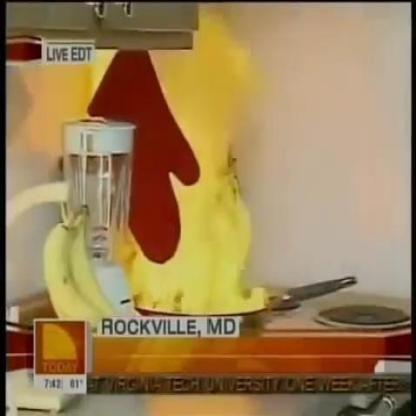fire: (88, 7, 271, 315)
